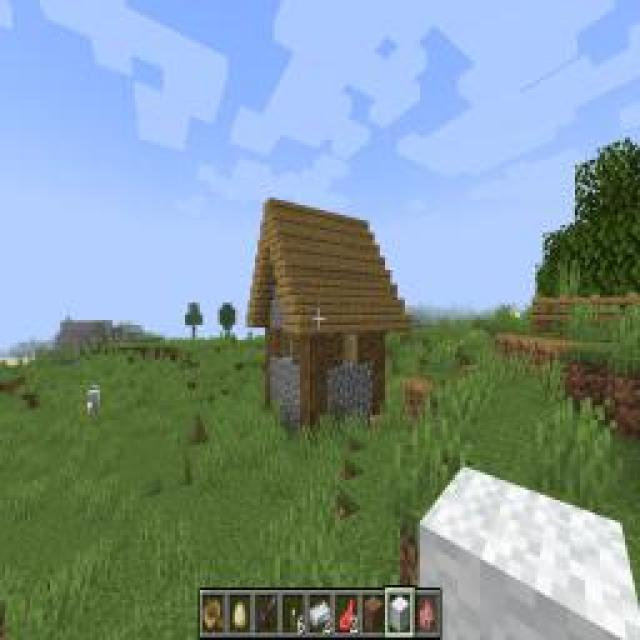Villager: (244, 189, 416, 439)
